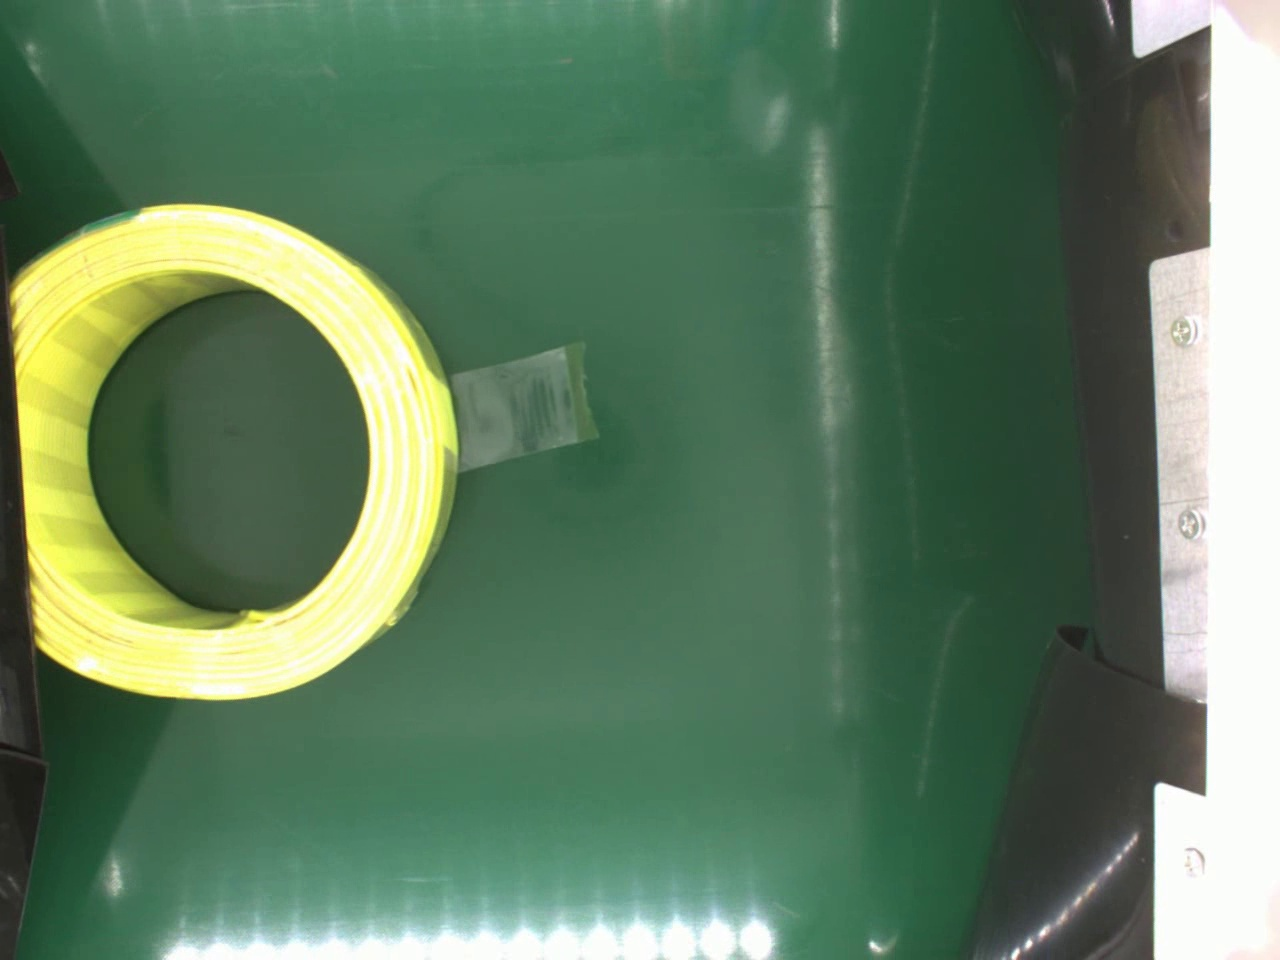yellow: (5, 197, 467, 707)
